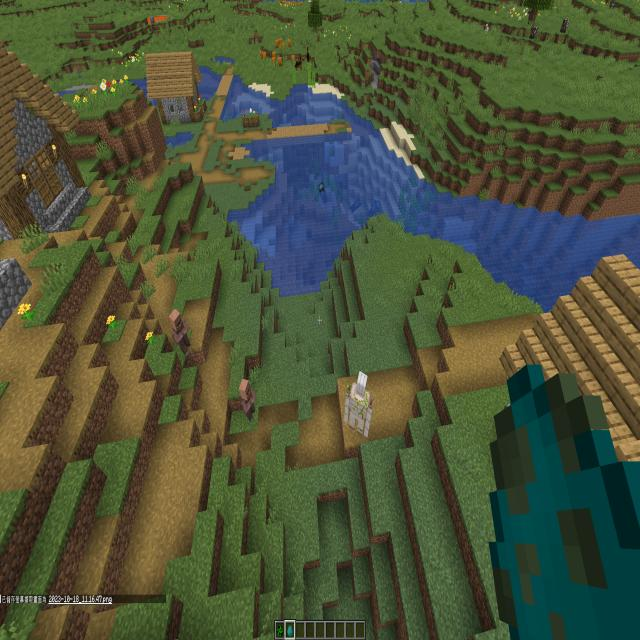iron golem: (328, 357, 396, 456)
